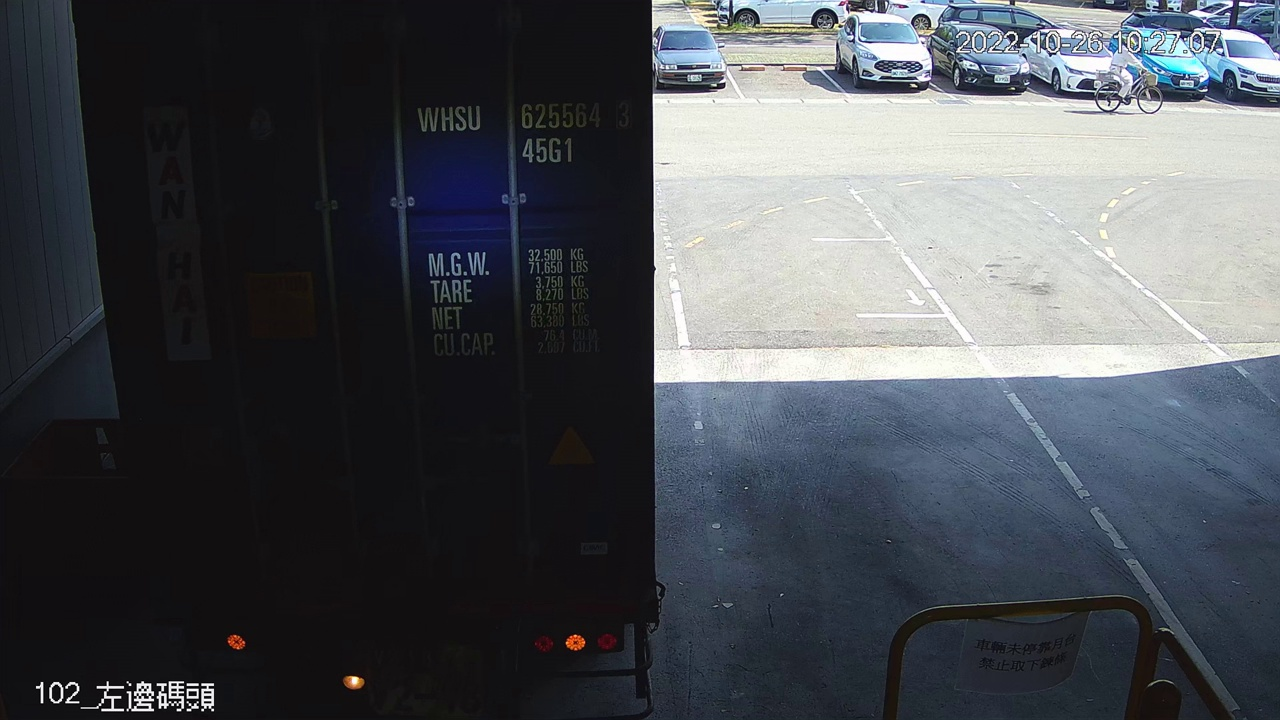container: (408, 93, 644, 170)
